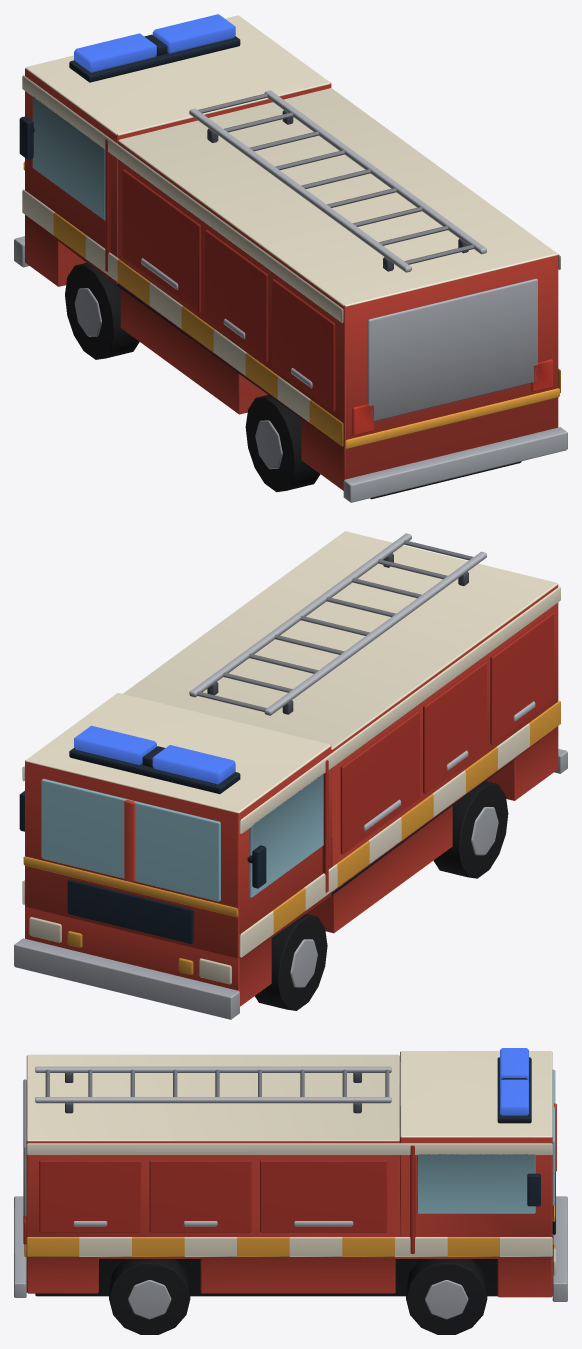
Rendered from rescue_truck.glb.
3 renders of one model, top to bottom at view 1: azimuth 30°, elevation 25°; view 2: azimuth 150°, elevation 25°; view 3: azimuth 270°, elevation 25°, orthographic. The views are drawn at different scales.
Parts seen in each view (by area): view 1: Body, LightL, LightR; view 2: Body, LightL, LightR; view 3: Body, LightR, LightL.
Part boxes in pixels (bbox=[...]): Body: bbox=[14, 15, 567, 502]; LightL: bbox=[74, 33, 156, 72]; LightR: bbox=[152, 14, 235, 53]; Body: bbox=[14, 531, 567, 1019]; LightL: bbox=[152, 745, 235, 784]; LightR: bbox=[74, 725, 156, 764]; Body: bbox=[14, 1051, 567, 1334]; LightR: bbox=[500, 1079, 528, 1115]; LightL: bbox=[500, 1048, 528, 1081].
Size of the model in its own units: 2.68 by 2.81 by 6.53.
2 materials, 2 textured.
